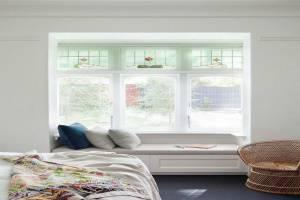window: (49, 33, 248, 145)
